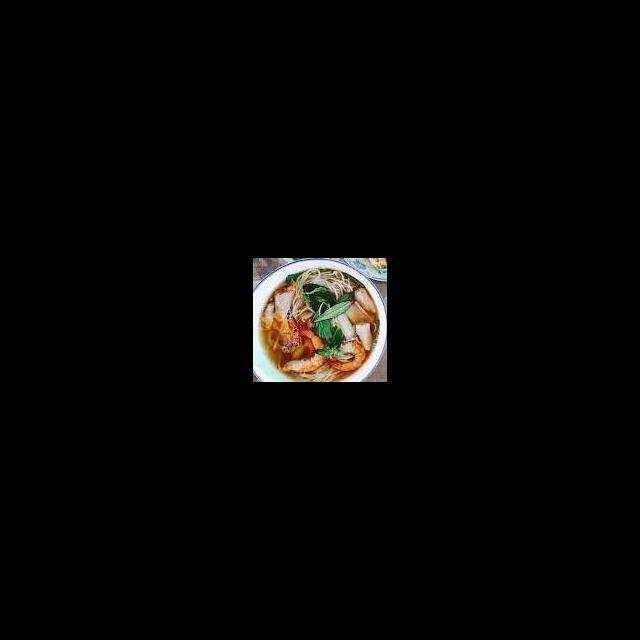bun: (294, 362, 349, 382)
ca: (354, 318, 376, 354)
rau ram: (312, 298, 356, 324)
tom: (277, 323, 327, 377), (325, 337, 368, 373)
